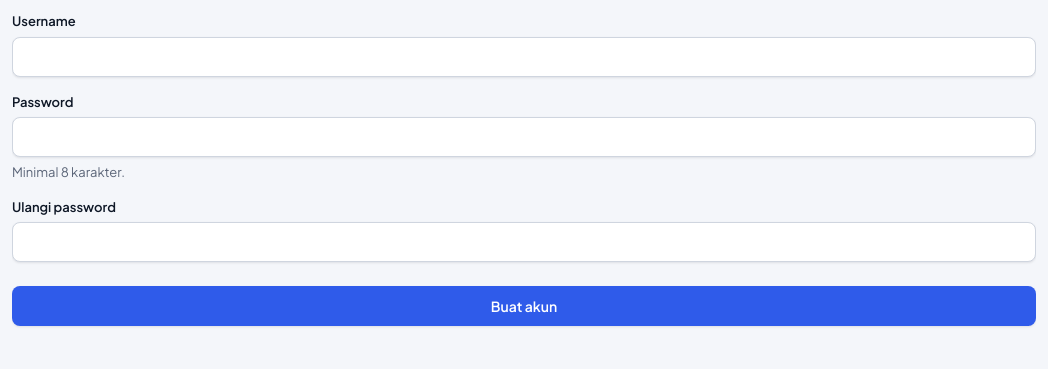
RegisterForm › requires both passwords to match
The image size is (1048, 369).
Step 1. Type "newuser" into the field labelled "Username" → (524, 57), box [12,37,1036,77]
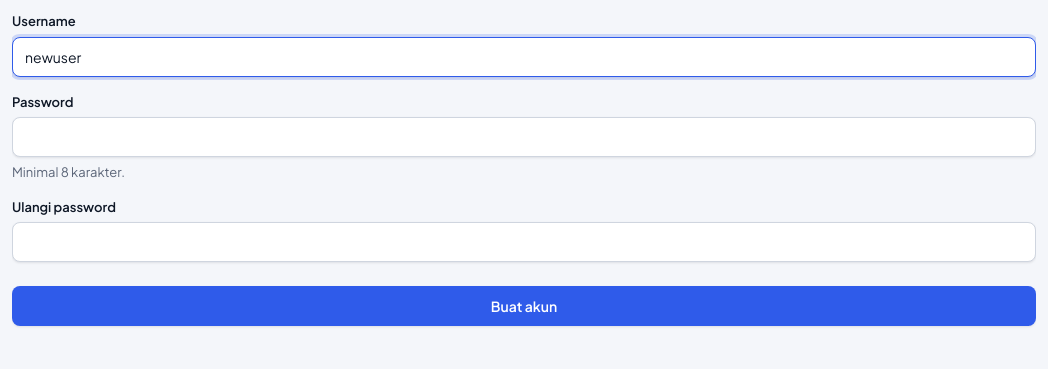
Step 2. Type "password123" into the password field labelled "Password" → (524, 137), box [12,117,1036,157]
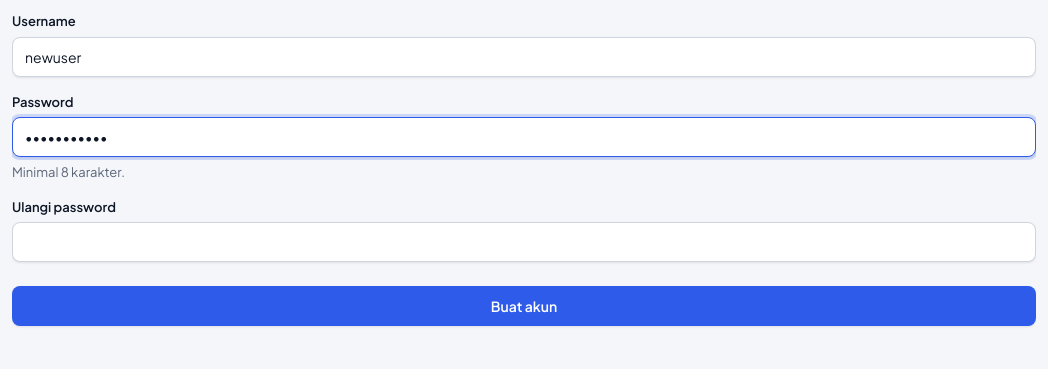
Step 3. Type "password124" into the password field labelled "Ulangi password" → (524, 242), box [12,222,1036,262]
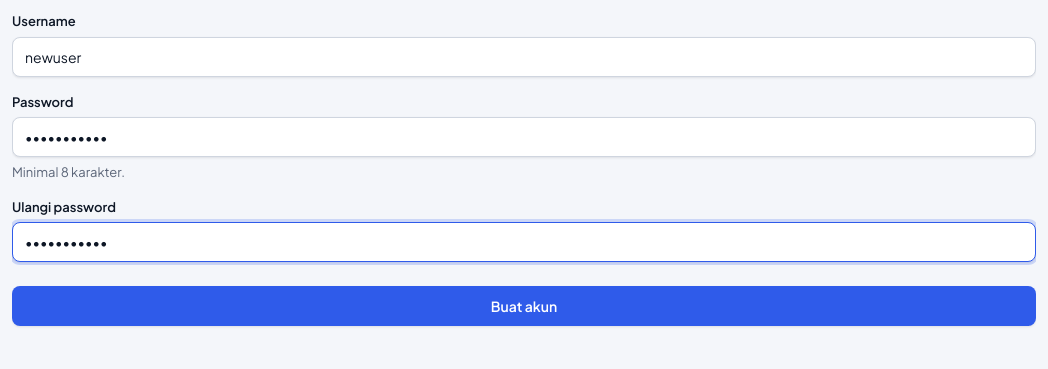
Step 4. Click the button "Buat akun" → (524, 306), box [12,286,1036,326]
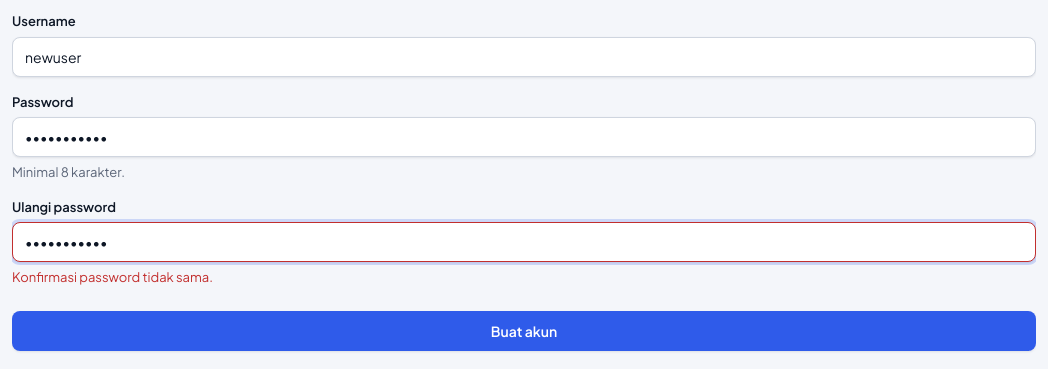
Now the text "Konfirmasi password tidak sama." is shown, box [12,269,213,285]
